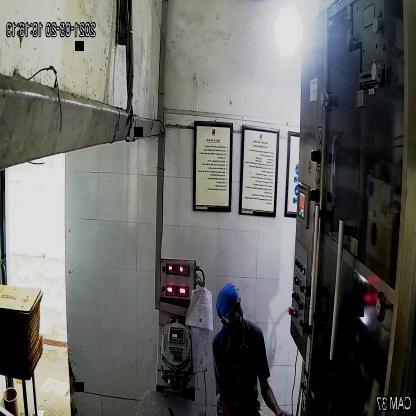goggles: (220, 296, 243, 326)
